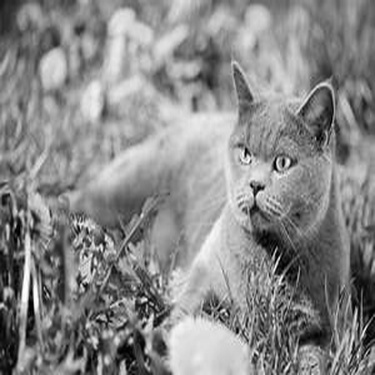cat: (56, 59, 351, 373)
